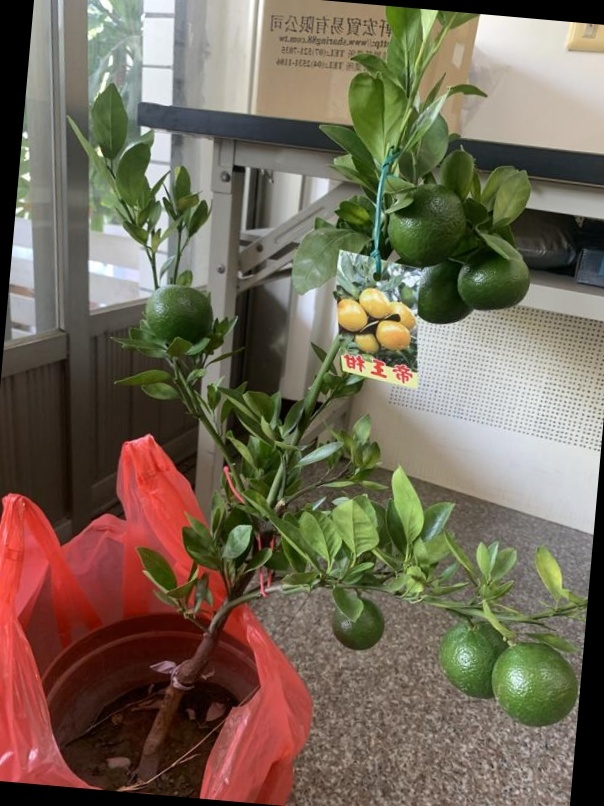Tangerine: (494, 641, 579, 727), (390, 184, 466, 268), (433, 614, 502, 698), (145, 284, 219, 349), (460, 253, 533, 313), (330, 596, 383, 651)
